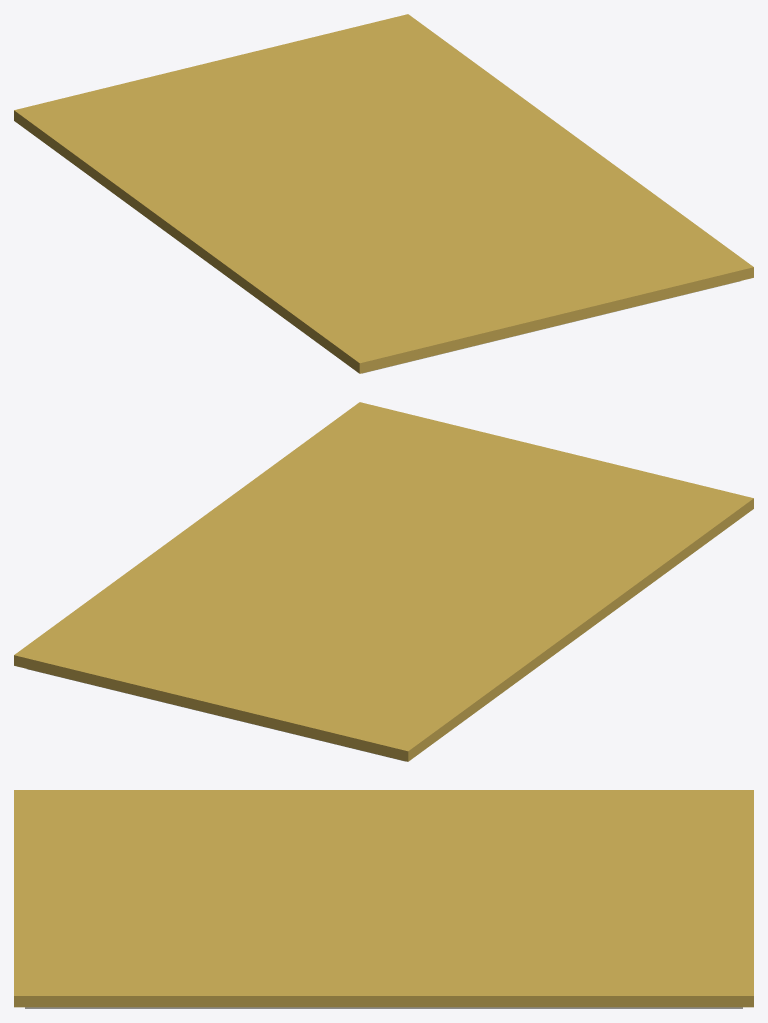
The model's file is card_single_front.glb.
3 renders of one model, top to bottom at view 1: azimuth 30°, elevation 25°; view 2: azimuth 150°, elevation 25°; view 3: azimuth 270°, elevation 25°, orthographic. The views are drawn at different scales.
Parts seen in each view (by area): view 1: world; view 2: world; view 3: world.
Boxes of the visible parts, x1,y1,x2,y2 form: world: (14,14,753,373); world: (14,402,753,761); world: (14,790,753,1008).
Size of the model in its own units: 0.156 by 0.006 by 0.237.
